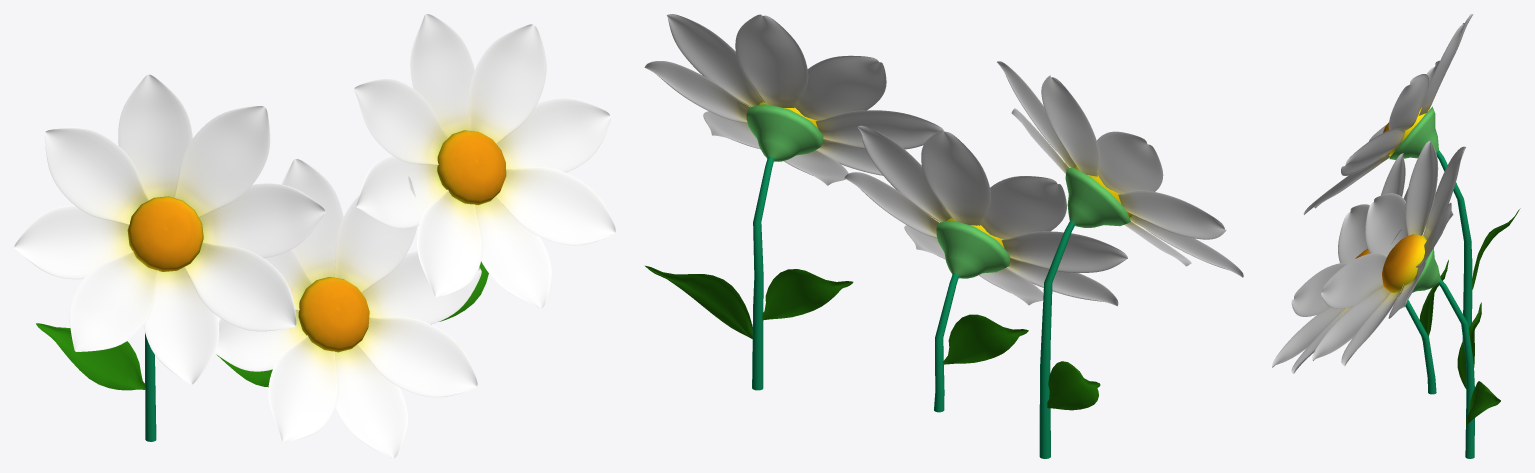
Rendered from Flowers1.fbx.
The picture shows the model from 3 angles, left to right: view 1: azimuth 30°, elevation 25°; view 2: azimuth 150°, elevation 25°; view 3: azimuth 270°, elevation 25°; orthographic projection. The views are drawn at different scales.
Parts seen in each view (by area): view 1: Flower1_Bundle; view 2: Flower1_Bundle; view 3: Flower1_Bundle.
Part boxes in pixels (x1,y1,x2,y2): Flower1_Bundle: (14, 14, 615, 458); Flower1_Bundle: (644, 14, 1243, 458); Flower1_Bundle: (1272, 14, 1520, 458).
Size of the model in its own units: 12.12 by 7.35 by 5.24.
Materials: 5 (2 with a texture image).
